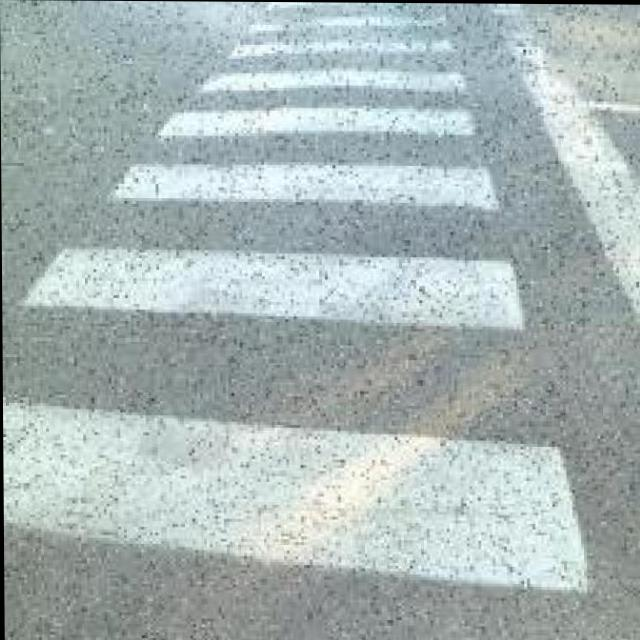zebra: (0, 0, 607, 613)
